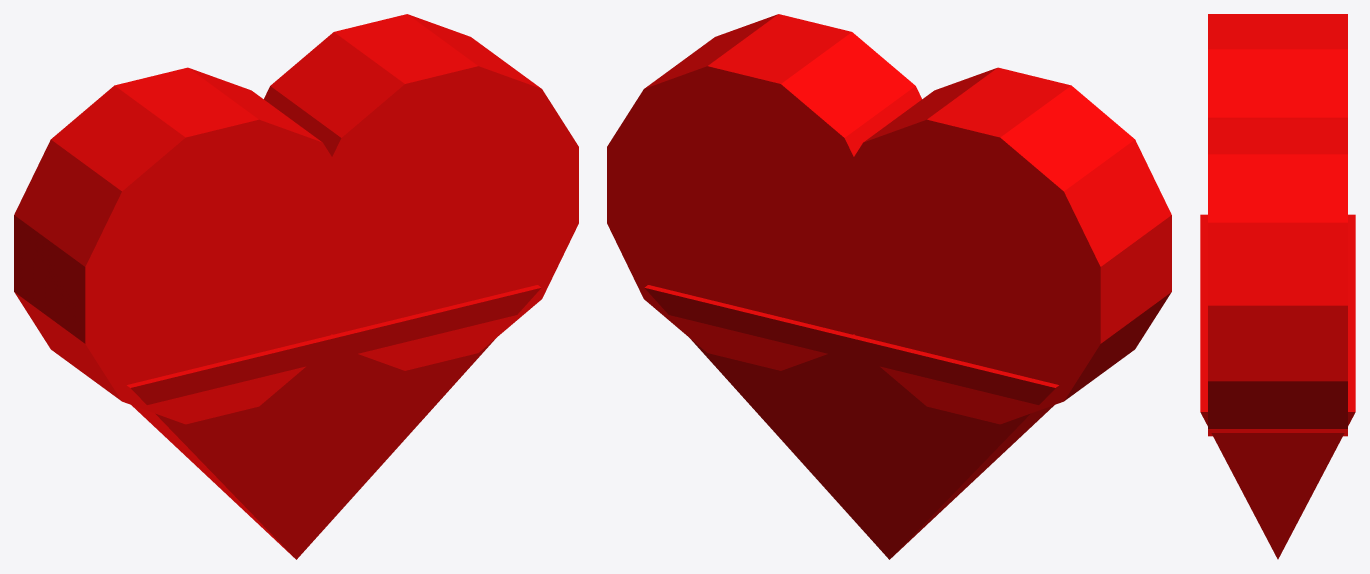
The model's file is coeur.gltf.
The picture shows the model from 3 angles, left to right: view 1: azimuth 30°, elevation 25°; view 2: azimuth 150°, elevation 25°; view 3: azimuth 270°, elevation 25°; orthographic projection.
Visible parts, largest first — view 1: cylinder (×2), pyramid; view 2: cylinder (×2), pyramid; view 3: cylinder (×2), pyramid.
Boxes of the visible parts, x1,y1,x2,y2 form: cylinder (×2): [14, 14, 578, 424]; pyramid: [126, 285, 541, 559]; cylinder (×2): [607, 14, 1171, 424]; pyramid: [644, 285, 1059, 559]; cylinder (×2): [1208, 14, 1347, 436]; pyramid: [1200, 214, 1355, 559].
Size of the model in its own units: 0.45 by 0.4219 by 0.125.
Materials: 2 (2 with a texture image).
